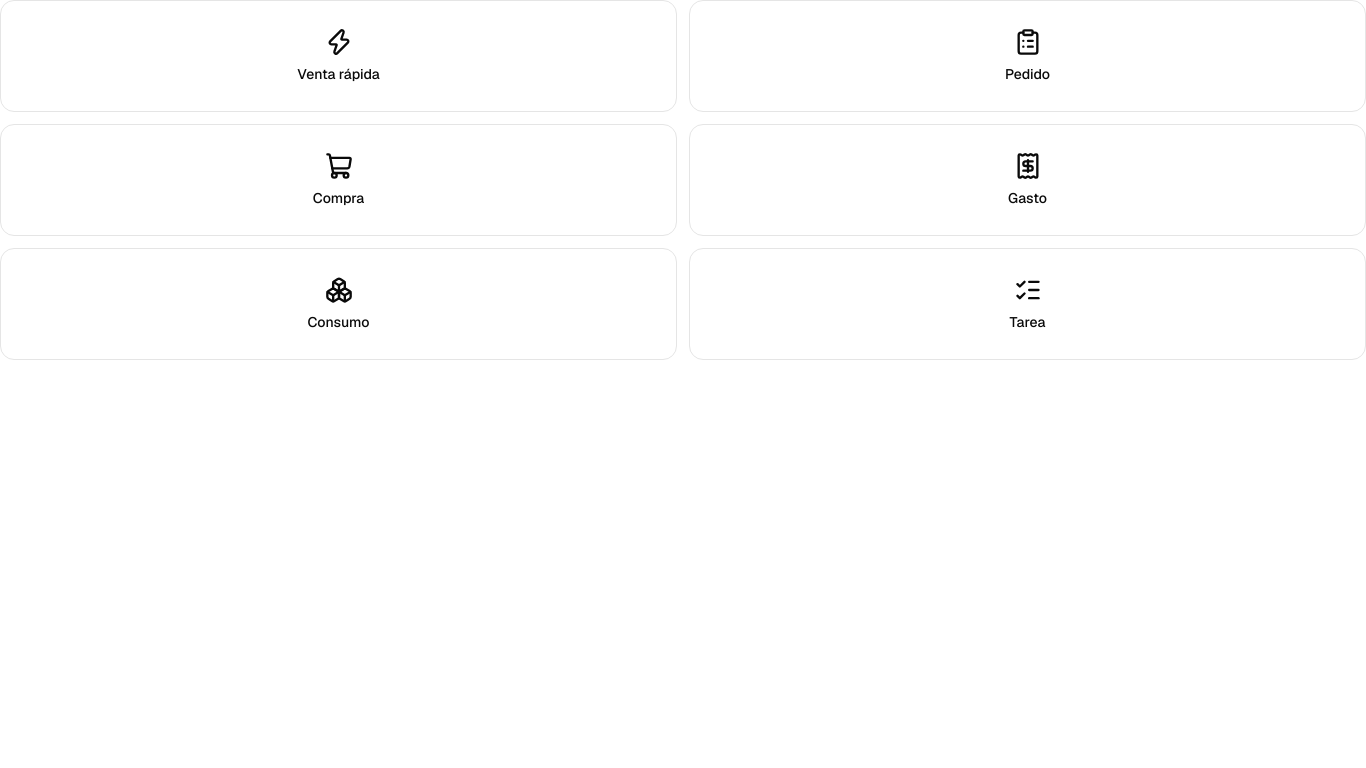
Test: QuickGrid › Consumo abre su diálogo sin navegar a ninguna parte
Click the button with test id "quick-destination-consumption".
click(338, 304)  # box [0,248,677,360]
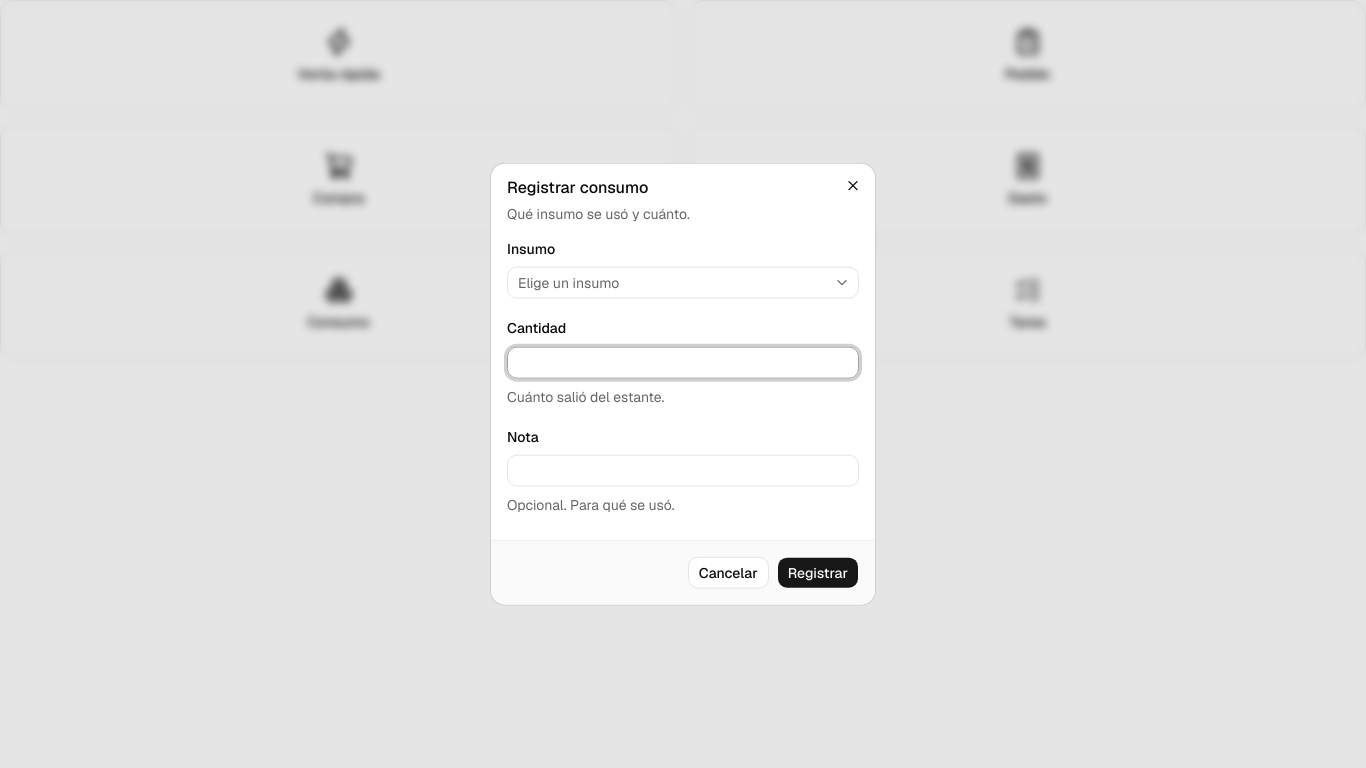
Expected: the form with test id "consumption-form" is shown, [507,180,859,588]
